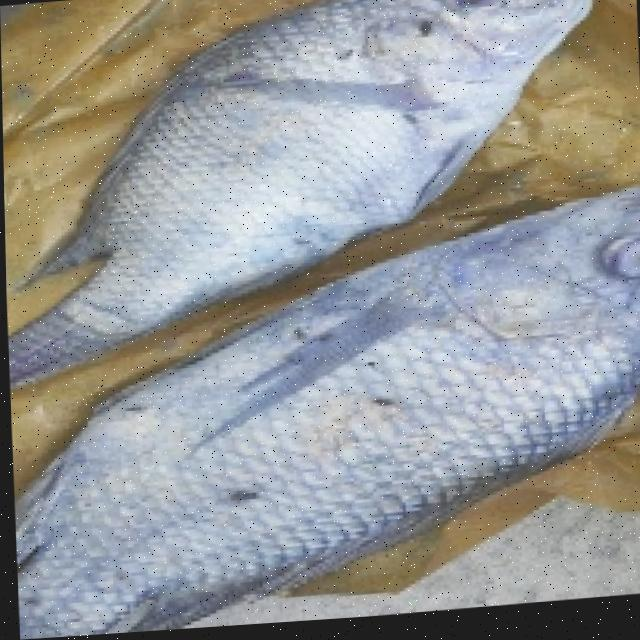Non-Fresh: (80, 0, 573, 225), (320, 219, 640, 474)
